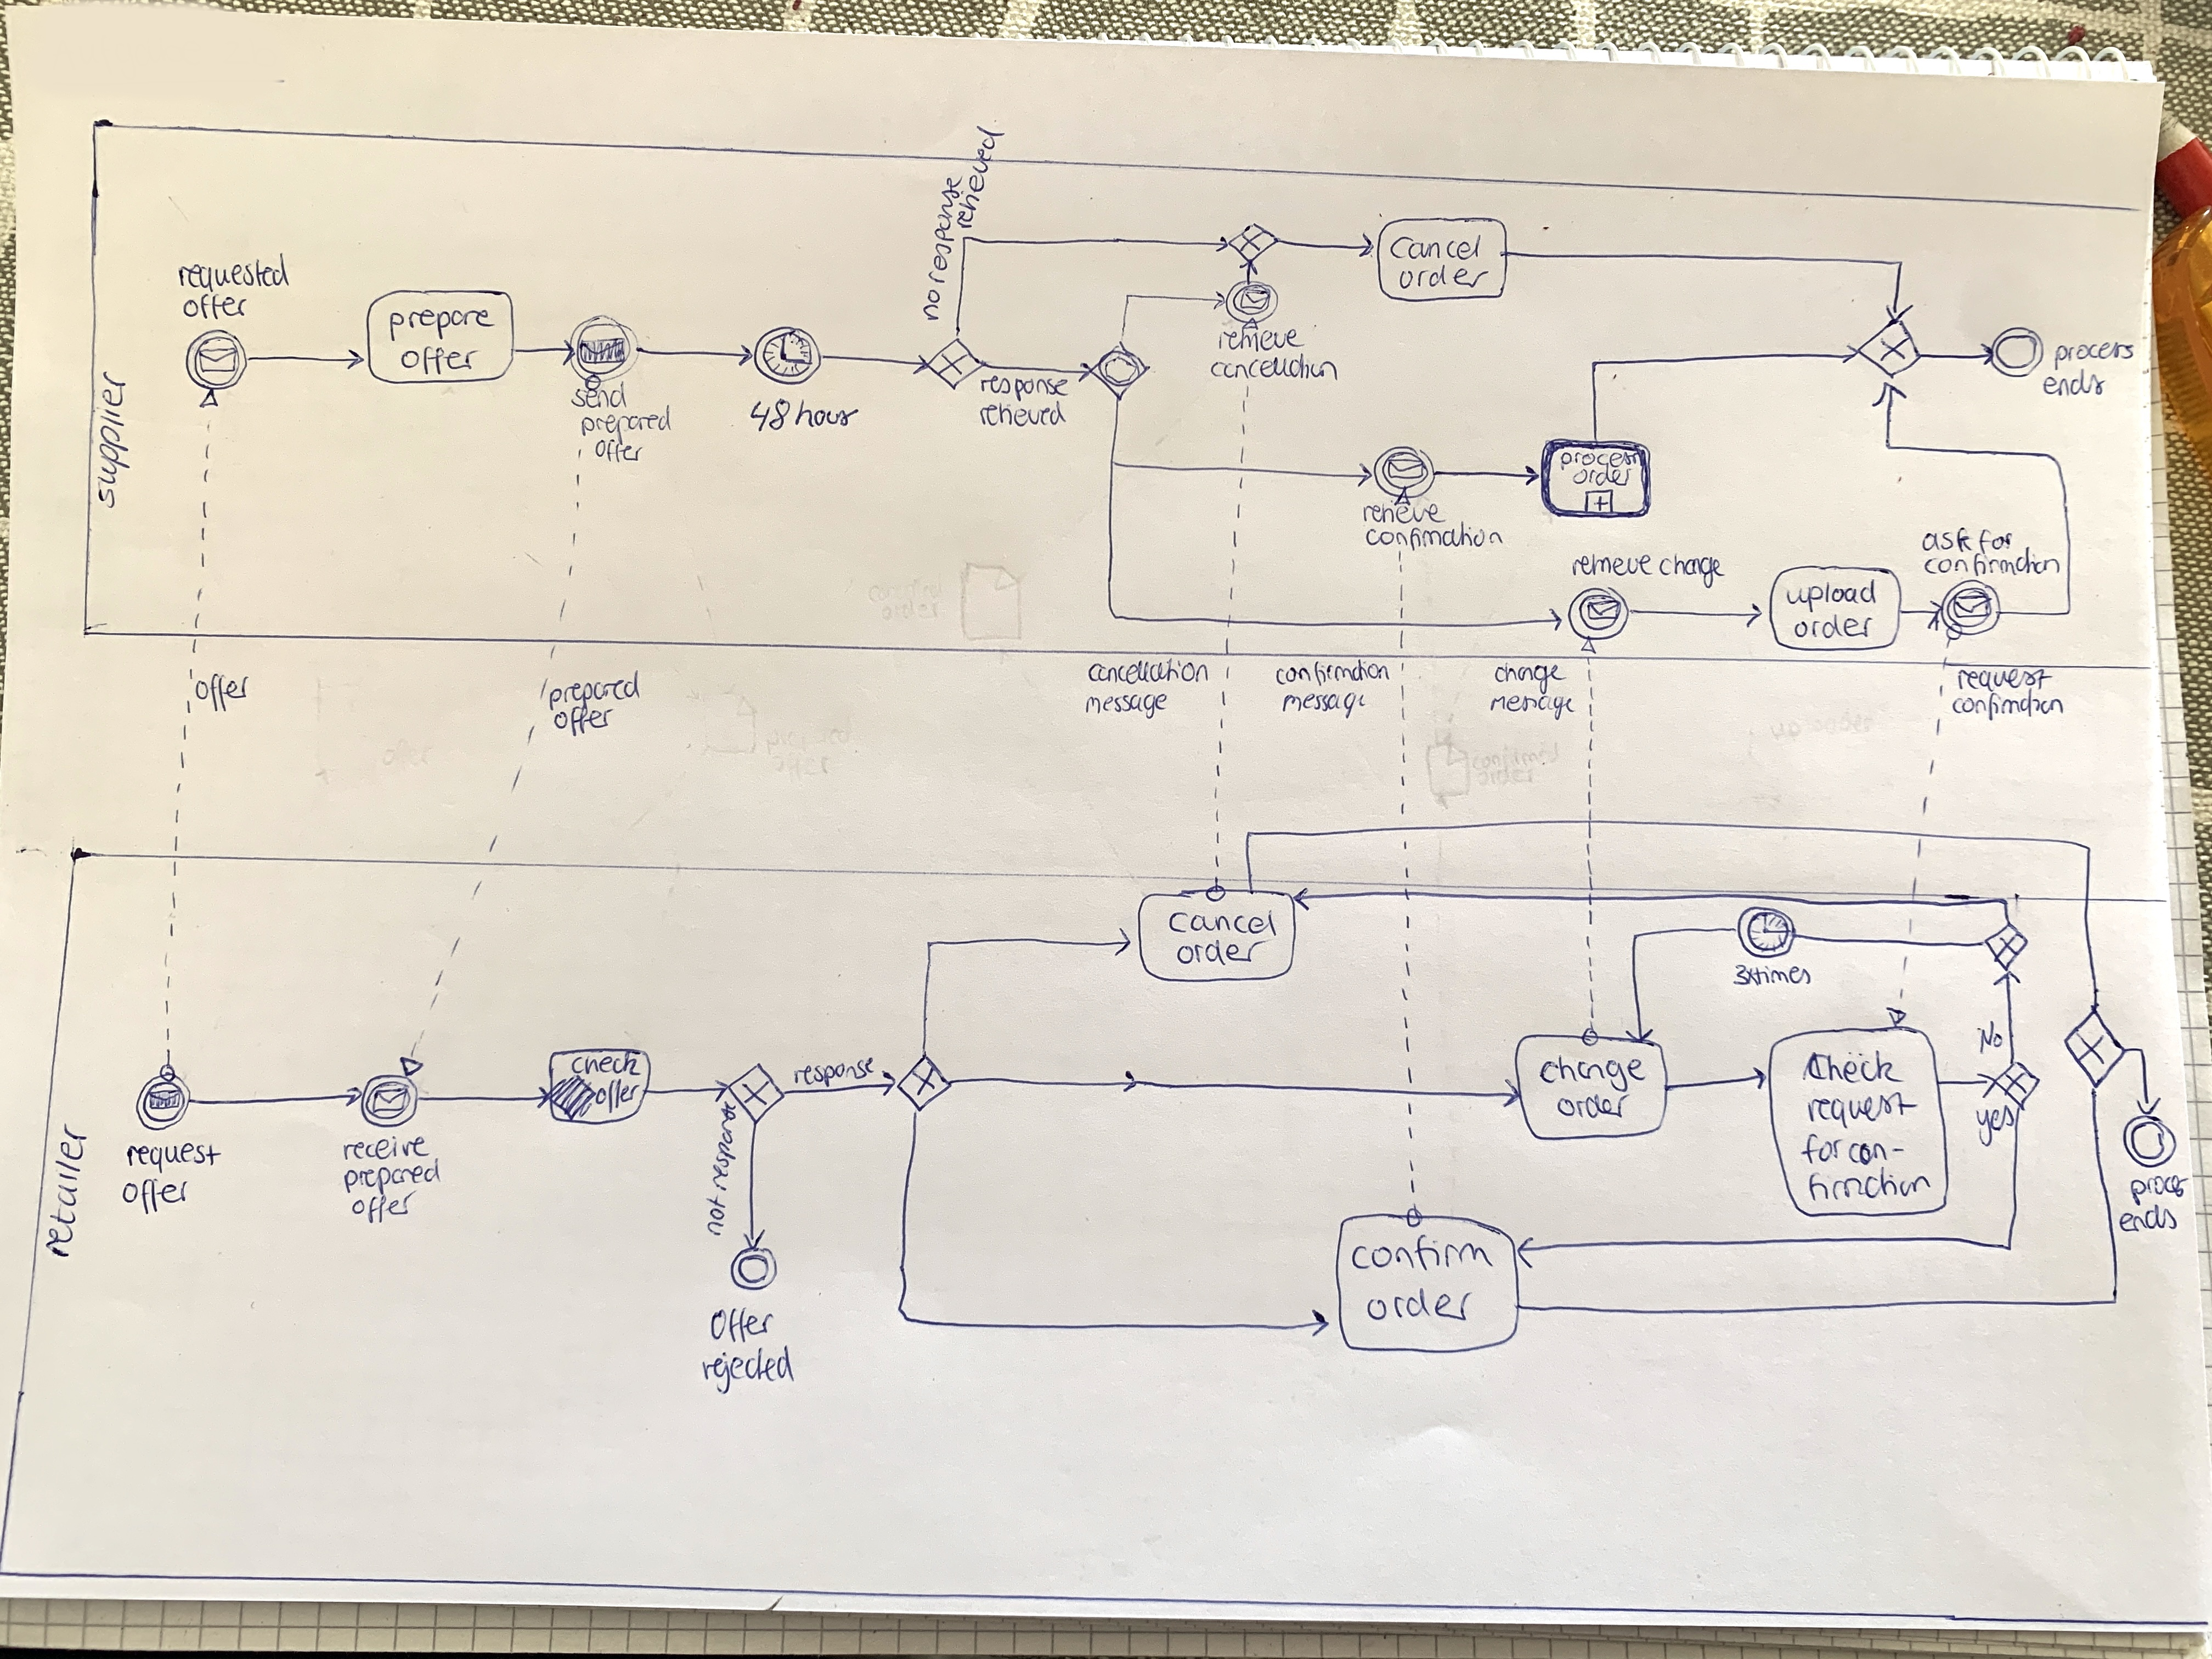3xtimes: (1731, 965, 1813, 990)
48: (752, 403, 789, 430)
No: (1975, 1018, 2008, 1056)
ask: (1919, 528, 1970, 554)
cancel: (1165, 906, 1270, 939), (1392, 234, 1484, 263)
cancellation: (1209, 359, 1339, 389), (1090, 659, 1214, 687)
change: (1543, 1053, 1649, 1089), (1496, 659, 1561, 690), (1660, 552, 1721, 579)
check: (561, 1051, 650, 1084), (1817, 1053, 1898, 1086)
con-: (1848, 1134, 1909, 1166)
confirm: (1352, 1236, 1491, 1277)
confirmation: (1919, 549, 2060, 579), (1949, 692, 2060, 725), (1366, 525, 1501, 549), (1277, 659, 1386, 687)
ends: (2120, 1202, 2179, 1236), (2038, 371, 2106, 399)
for: (1799, 1133, 1844, 1168), (1977, 526, 2013, 556)
function: (1801, 1171, 1932, 1201)
hour: (794, 399, 853, 430)
message: (1486, 690, 1580, 721), (1278, 687, 1371, 718), (1082, 694, 1169, 716)
no: (920, 288, 949, 319)
not: (702, 1194, 726, 1236)
offer: (691, 1305, 787, 1344), (329, 1188, 432, 1223), (193, 671, 258, 716), (118, 1176, 188, 1209), (545, 706, 620, 735), (402, 347, 479, 375), (181, 295, 251, 322), (582, 443, 653, 460), (596, 1079, 637, 1107)
order: (1362, 1284, 1472, 1330), (1792, 608, 1872, 647), (1399, 263, 1491, 291), (1555, 1091, 1630, 1121), (1177, 939, 1261, 965), (1568, 465, 1642, 490)
prepare: (383, 303, 496, 345)
prepared: (535, 676, 653, 706), (343, 1161, 439, 1195), (582, 406, 672, 439)
process: (2120, 1173, 2203, 1206), (2050, 338, 2135, 368), (1559, 450, 1639, 469)
receive: (333, 1129, 437, 1168)
rejected: (700, 1349, 792, 1398)
relieve: (1566, 551, 1651, 584), (1352, 502, 1444, 528), (1216, 328, 1303, 354)
relieved: (951, 124, 1005, 237), (977, 404, 1066, 430)
request: (1808, 1091, 1918, 1126), (1944, 666, 2055, 695), (125, 1140, 218, 1175)
requested: (176, 256, 289, 293)
response: (925, 169, 965, 288), (961, 371, 1082, 399), (709, 1101, 738, 1194), (792, 1058, 873, 1087)
retailer: (44, 1119, 89, 1262)
send: (556, 383, 641, 410)
supplier: (94, 369, 125, 505)
upload: (1787, 579, 1878, 606)
yes: (1972, 1101, 2015, 1148)
